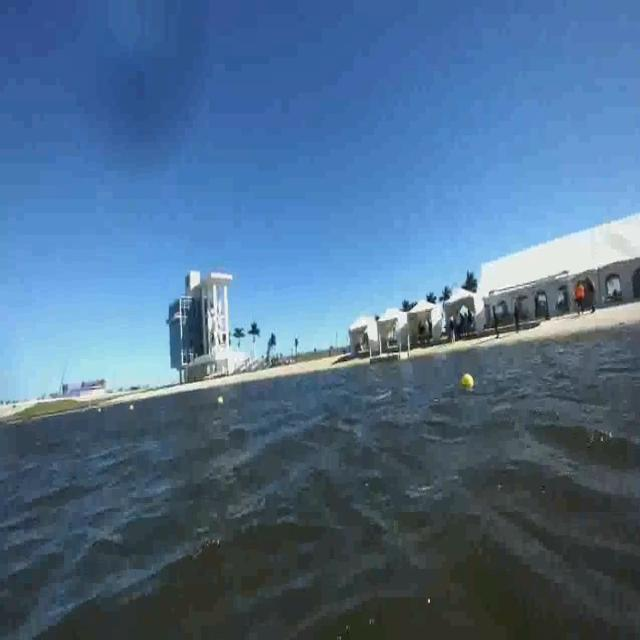yellow-buoy: (460, 374, 474, 390)
